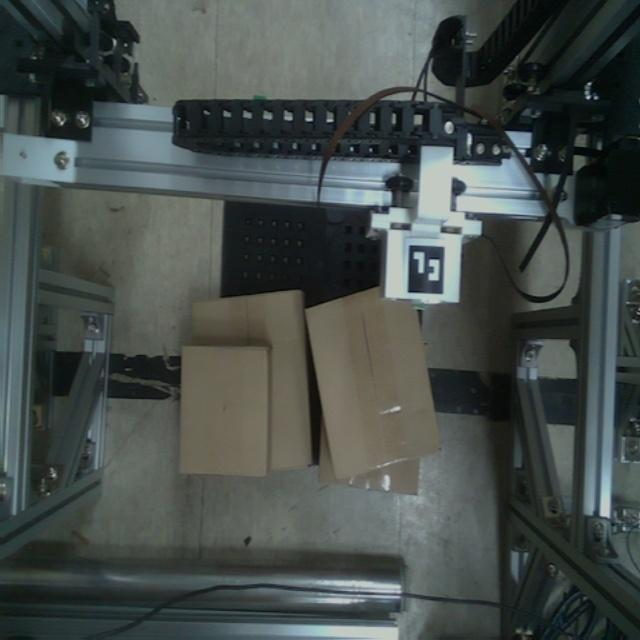box: (172, 342, 272, 481)
